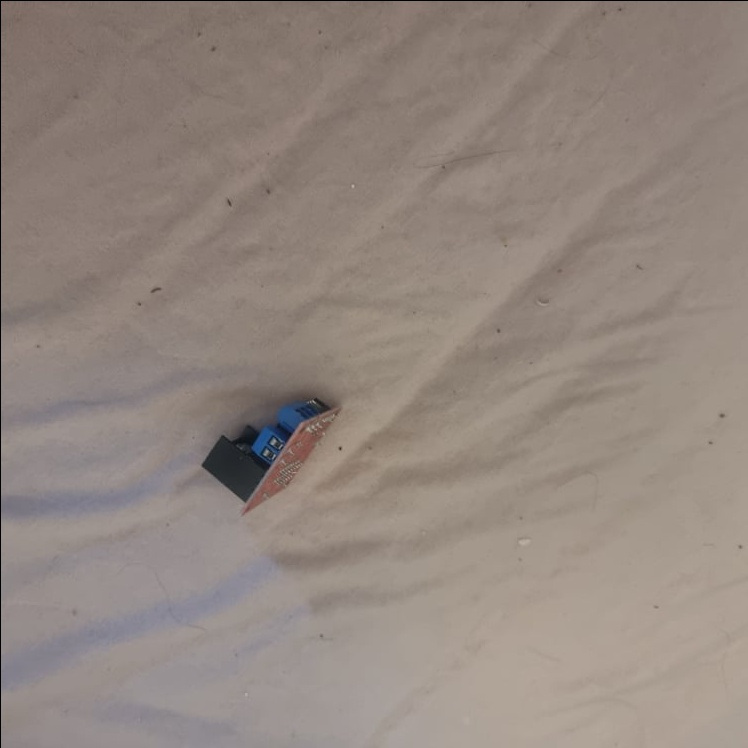MOTOR: (199, 392, 337, 513)
